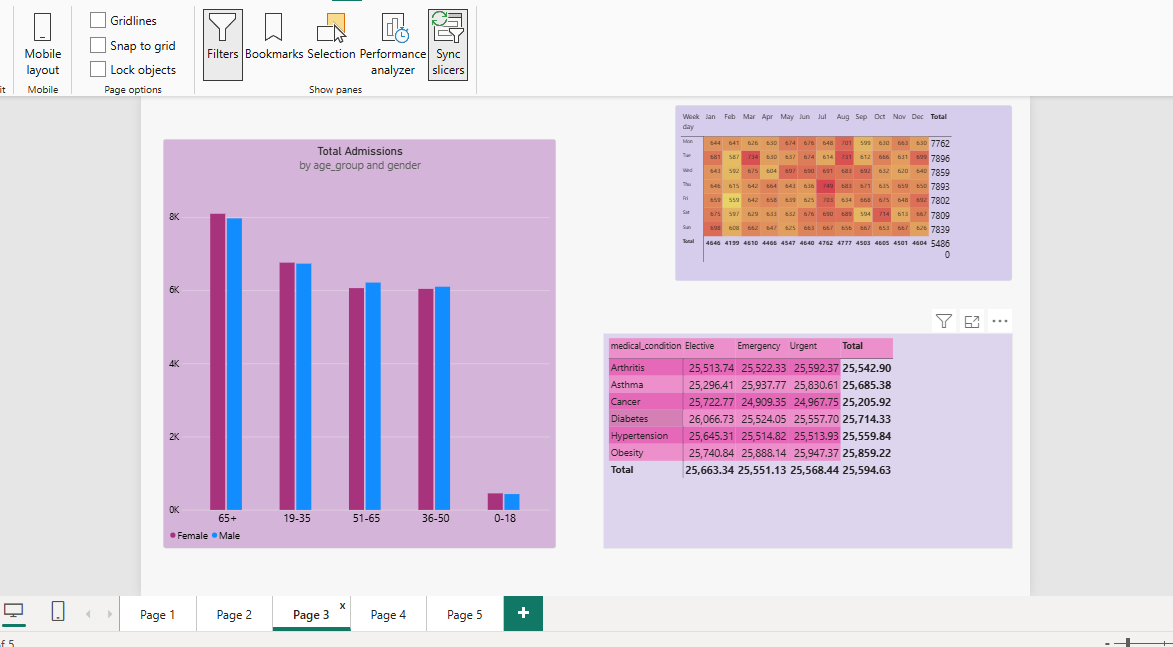

This screenshot's page, from the dashboard's own definition file:
{"tool":"powerbi","page":{"name":"Page 3","canvas":[2560,1440],"ordinal":2},"visuals":[{"type":"clusteredColumnChart","fields":{"Category":["admission.age_group"],"Series":["admission.gender"],"Y":["admission.Total Admissions"]},"box":[63.8,124.3,1132.2,1179.2],"z":0},{"type":"pivotTable","fields":{"Rows":["date_table.Weekday"],"Columns":["date_table.Month"],"Values":["admission.Total Admissions"]},"box":[1538.7,26.9,970.9,507.3],"z":1000},{"type":"pivotTable","fields":{"Rows":["admission.medical_condition"],"Columns":["admission.admission_type"],"Values":["admission.Avg Bill per Patient"]},"box":[1555.5,682,954.1,621.5],"z":1001}]}

Visuals, with their boxes on the page's 2560x1440 design canvas (x1, y1, x2, y2). These are canvas units, not pixel positions in the 1173x647 screenshot, which may show the page scaled, cropped or inside an application window:
clusteredColumnChart - admission.age_group x admission.gender: x1=64, y1=124, x2=1196, y2=1304
pivotTable - date_table.Weekday x date_table.Month: x1=1539, y1=27, x2=2510, y2=534
pivotTable - admission.medical_condition x admission.admission_type: x1=1556, y1=682, x2=2510, y2=1304
